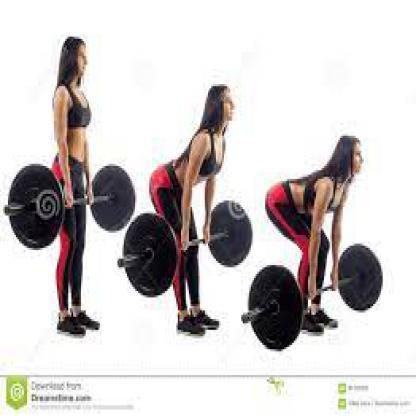barbell: (240, 241, 385, 352), (117, 199, 254, 298), (2, 161, 138, 250)
